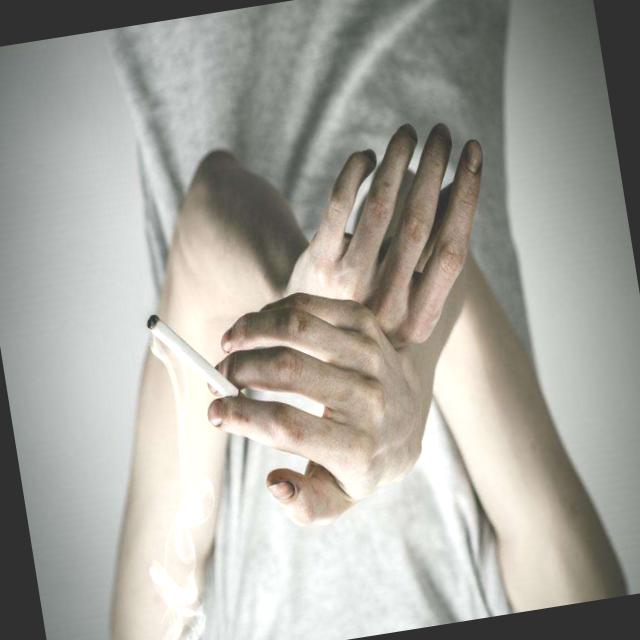smoke: (139, 292, 246, 430)
